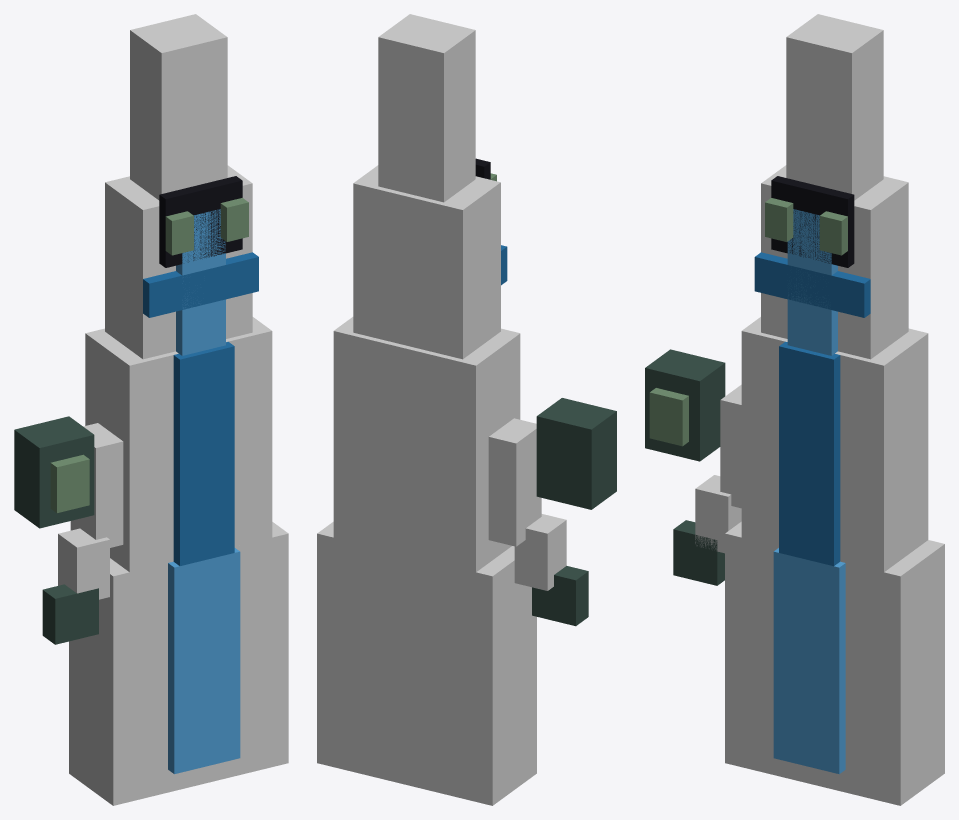
File: healer.gltf
The picture shows the model from 3 angles, left to right: view 1: azimuth 30°, elevation 25°; view 2: azimuth 150°, elevation 25°; view 3: azimuth 330°, elevation 25°; orthographic projection.
Visible parts, largest first — view 1: 00_veil_pooled, 05_veil_body, 15_veil_crown, 01_stole_on_the_hem, 07_stole_on_the_body, 09_veil_shoulderless, 06_lamp_cage, 10_brow_band, 11_stole_on_the_veil, 12_hollow, 04_arm_out_and_down, 03_bone_hand (+4 smaller); view 2: 00_veil_pooled, 05_veil_body, 09_veil_shoulderless, 15_veil_crown, 06_lamp_cage, 04_arm_out_and_down, 03_bone_hand, 02_lamp_hook; view 3: 00_veil_pooled, 05_veil_body, 15_veil_crown, 01_stole_on_the_hem, 07_stole_on_the_body, 09_veil_shoulderless, 06_lamp_cage, 11_stole_on_the_veil, 10_brow_band, 12_hollow, 02_lamp_hook, 03_bone_hand (+4 smaller).
Boxes of the visible parts, bbox=[...] form: 00_veil_pooled: bbox=[69, 522, 288, 805]; 05_veil_body: bbox=[85, 317, 272, 572]; 15_veil_crown: bbox=[130, 14, 227, 200]; 01_stole_on_the_hem: bbox=[168, 548, 240, 774]; 07_stole_on_the_body: bbox=[173, 341, 234, 565]; 09_veil_shoulderless: bbox=[105, 165, 252, 359]; 06_lamp_cage: bbox=[14, 416, 94, 528]; 10_brow_band: bbox=[143, 252, 258, 317]; 11_stole_on_the_veil: bbox=[176, 209, 225, 355]; 12_hollow: bbox=[159, 176, 242, 267]; 04_arm_out_and_down: bbox=[70, 423, 123, 547]; 03_bone_hand: bbox=[58, 528, 109, 599]; 00_veil_pooled: bbox=[317, 521, 536, 805]; 05_veil_body: bbox=[333, 317, 520, 572]; 09_veil_shoulderless: bbox=[353, 165, 500, 359]; 15_veil_crown: bbox=[378, 14, 475, 202]; 06_lamp_cage: bbox=[536, 398, 616, 509]; 04_arm_out_and_down: bbox=[488, 418, 541, 546]; 03_bone_hand: bbox=[514, 514, 566, 590]; 02_lamp_hook: bbox=[532, 566, 588, 626]; 00_veil_pooled: bbox=[725, 521, 944, 805]; 05_veil_body: bbox=[741, 317, 928, 572]; 15_veil_crown: bbox=[786, 14, 883, 200]; 01_stole_on_the_hem: bbox=[773, 548, 845, 774]; 07_stole_on_the_body: bbox=[779, 341, 840, 566]; 09_veil_shoulderless: bbox=[761, 165, 908, 359]; 06_lamp_cage: bbox=[645, 349, 725, 461]; 11_stole_on_the_veil: bbox=[787, 209, 837, 355]; 10_brow_band: bbox=[754, 252, 870, 317]; 12_hollow: bbox=[771, 176, 854, 267]; 02_lamp_hook: bbox=[673, 520, 724, 585]; 03_bone_hand: bbox=[695, 475, 741, 553].
Size of the model in its own units: 0.7188 by 2 by 0.2656.
